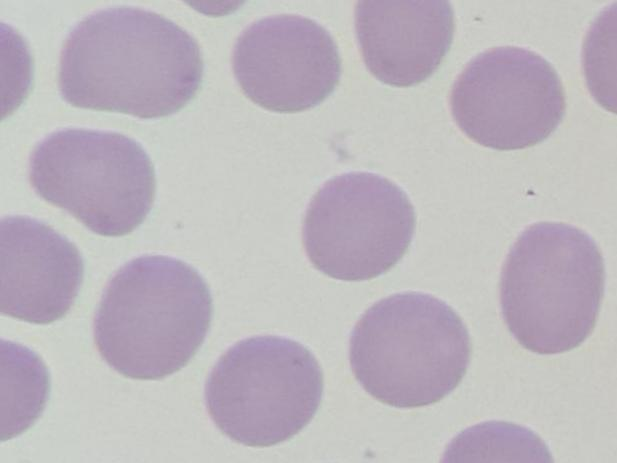Uninfected: (60, 8, 203, 116), (95, 255, 215, 378), (499, 220, 606, 356), (29, 127, 157, 239), (349, 293, 470, 411), (204, 333, 327, 449), (301, 169, 415, 283), (451, 45, 565, 151), (231, 15, 340, 115), (0, 218, 82, 327), (354, 0, 455, 88)
